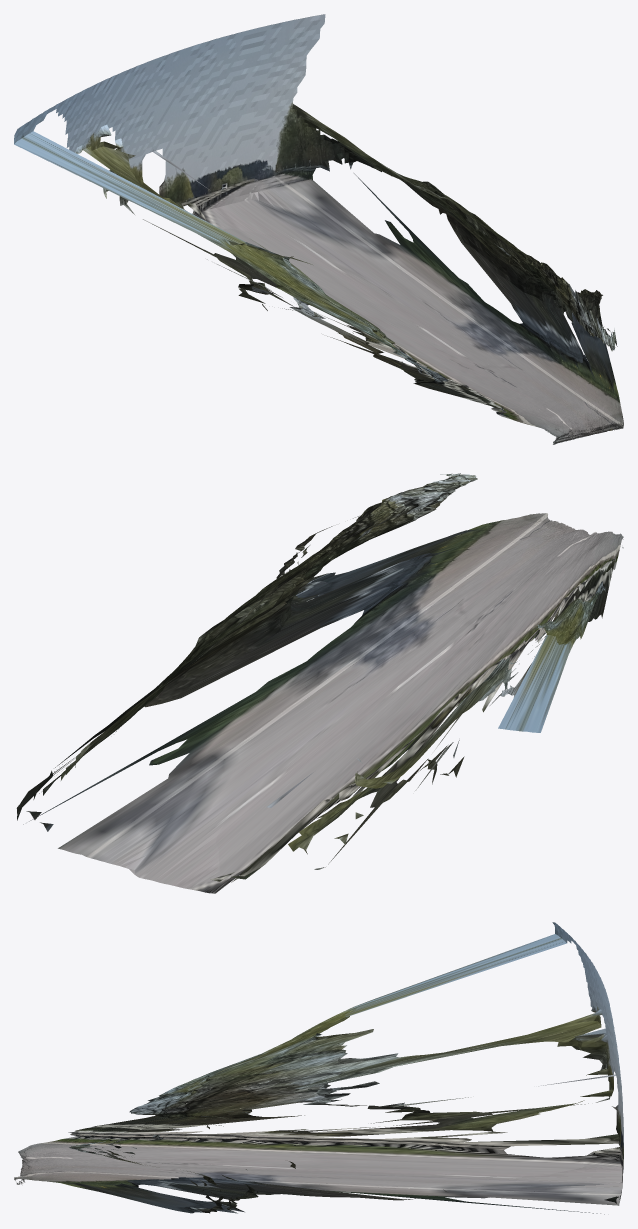
3 views of the same model, one above another, from view 1: azimuth 30°, elevation 25°; view 2: azimuth 150°, elevation 25°; view 3: azimuth 270°, elevation 25° (orthographic). The views are drawn at different scales.
Visible parts, largest first — view 1: defaultobject; view 2: defaultobject; view 3: defaultobject.
Part boxes in pixels (box(x1,y1,x2,y2)): defaultobject: box(14, 14, 623, 444); defaultobject: box(16, 473, 623, 893); defaultobject: box(14, 922, 623, 1214).
Size of the model in its own units: 29.62 by 12.66 by 44.58.
1 material, 1 textured.
